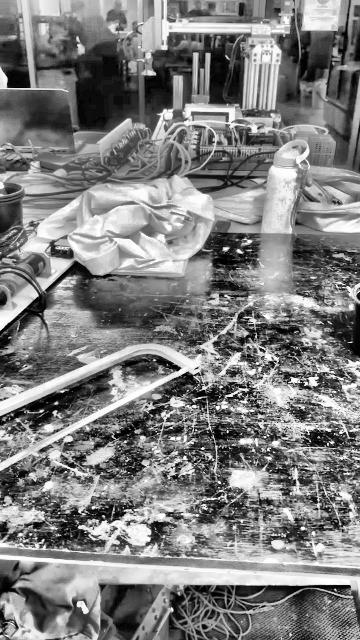pot: (0, 182, 23, 233)
